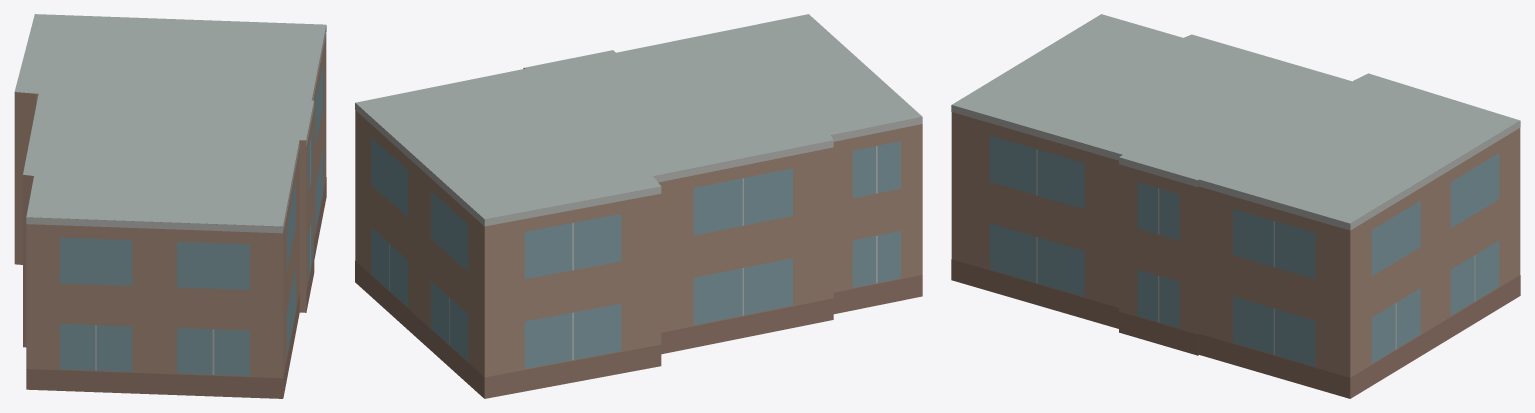
The model's file is survey-upis-32920347.glb.
The picture shows the model from 3 angles, left to right: view 1: azimuth 30°, elevation 25°; view 2: azimuth 150°, elevation 25°; view 3: azimuth 270°, elevation 25°; orthographic projection. The views are drawn at different scales.
Parts seen in each view (by area): view 1: survey-upis-32920347.tmp; view 2: survey-upis-32920347.tmp; view 3: survey-upis-32920347.tmp.
Boxes of the visible parts, x1=… form: survey-upis-32920347.tmp: x1=14, y1=14, x2=326, y2=398; survey-upis-32920347.tmp: x1=355, y1=14, x2=922, y2=398; survey-upis-32920347.tmp: x1=951, y1=14, x2=1520, y2=398.
Size of the model in its own units: 15.65 by 6.1 by 17.95.
